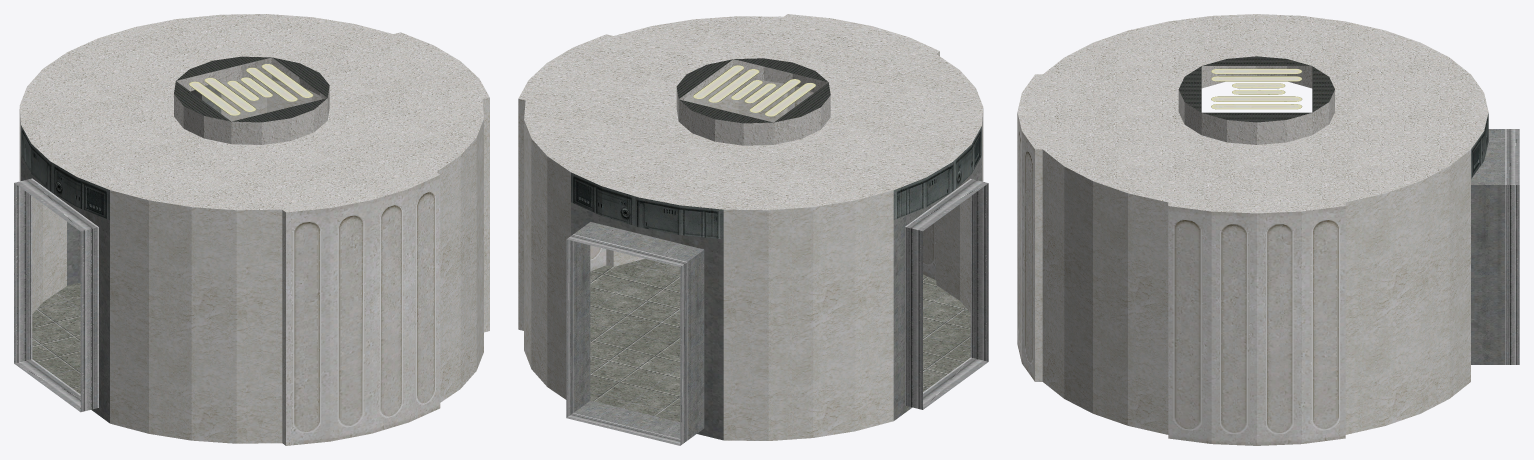
Rendered from ply_corl_house_sm_s02_fp1_r2_room2_mesh.fbx.
3 renders of one model, left to right at view 1: azimuth 30°, elevation 25°; view 2: azimuth 150°, elevation 25°; view 3: azimuth 270°, elevation 25°, orthographic.
Visible parts, largest first — view 1: mesh_node; view 2: mesh_node; view 3: mesh_node.
Boxes of the visible parts, bbox=[...] form: mesh_node: bbox=[14, 14, 489, 445]; mesh_node: bbox=[518, 14, 988, 445]; mesh_node: bbox=[1017, 14, 1519, 445].
Bounding box in the file's own units: 7.18 × 4.25 × 7.58.
